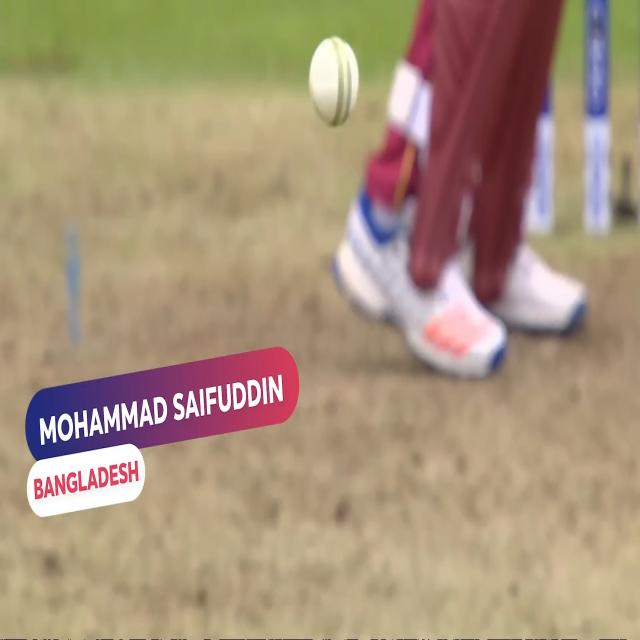ball: (299, 30, 370, 131)
